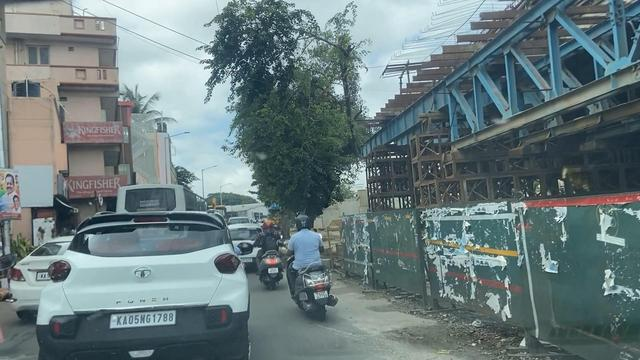LMV: (56, 221, 236, 360), (293, 217, 326, 319), (257, 222, 279, 285)
